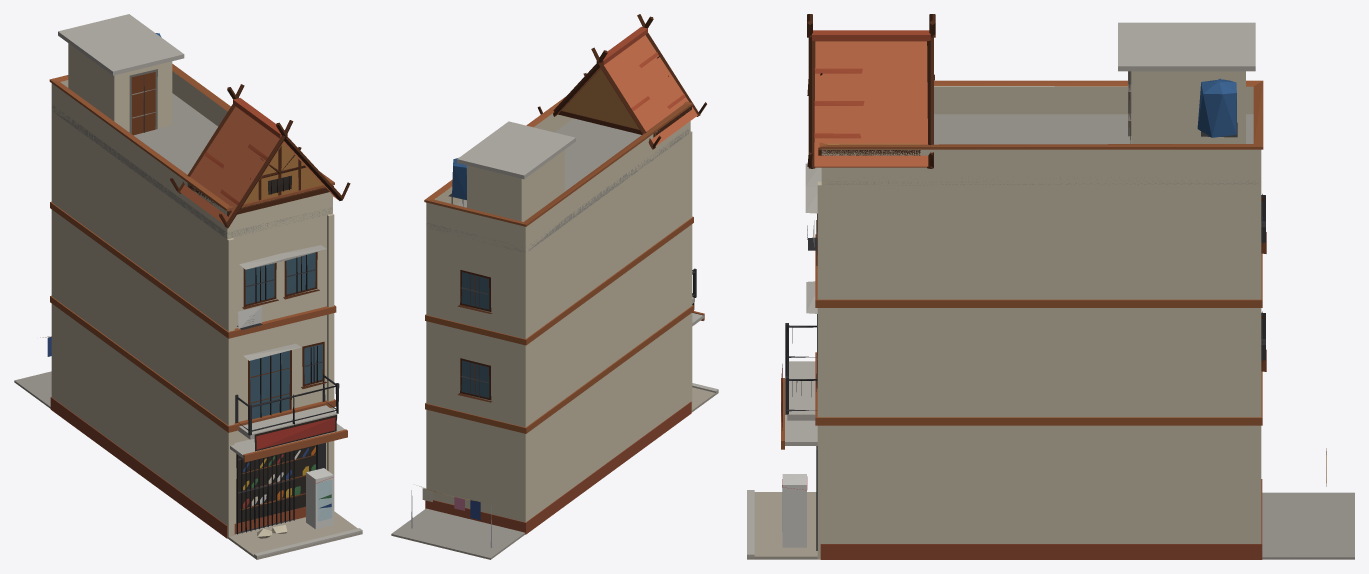
File: bay2_mid2.glb
3 renders of one model, left to right at view 1: azimuth 30°, elevation 25°; view 2: azimuth 150°, elevation 25°; view 3: azimuth 270°, elevation 25°, orthographic. The views are drawn at different scales.
Visible parts, largest first — view 1: body, windows; view 2: body, windows; view 3: body.
Part boxes in pixels (box(x1,y1,x2,y2)): body: box(14, 14, 362, 559); windows: box(236, 175, 322, 523); body: box(391, 14, 718, 559); windows: box(461, 272, 489, 397); body: box(747, 14, 1354, 559).
Bounding box in the file's own units: 4.98 × 14.73 × 15.9.
